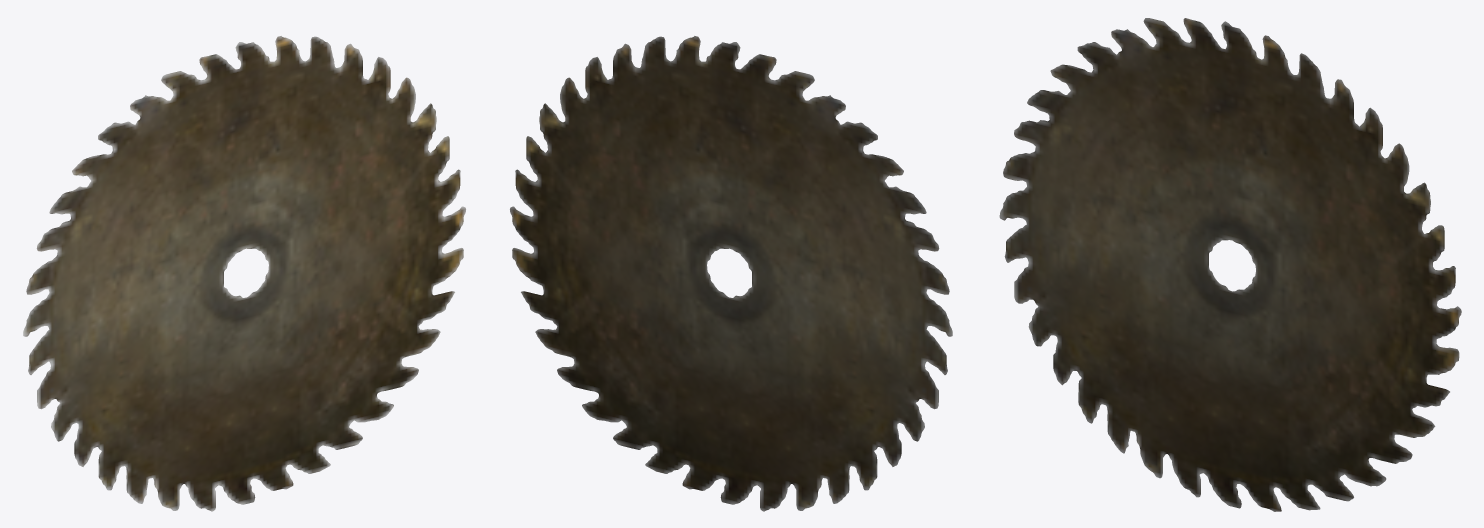
Rendered from sawblade_1.FBX.
3 renders of one model, left to right at view 1: azimuth 30°, elevation 25°; view 2: azimuth 150°, elevation 25°; view 3: azimuth 330°, elevation 25°, orthographic. The views are drawn at different scales.
Visible parts, largest first — view 1: sawblade_1; view 2: sawblade_1; view 3: sawblade_1.
Boxes of the visible parts, box(x1,y1,x2,y2) form: sawblade_1: box(23, 36, 465, 511); sawblade_1: box(510, 36, 952, 511); sawblade_1: box(999, 18, 1461, 511).
Bounding box in the file's own units: 24.37 × 24.29 × 6.69e-06.
